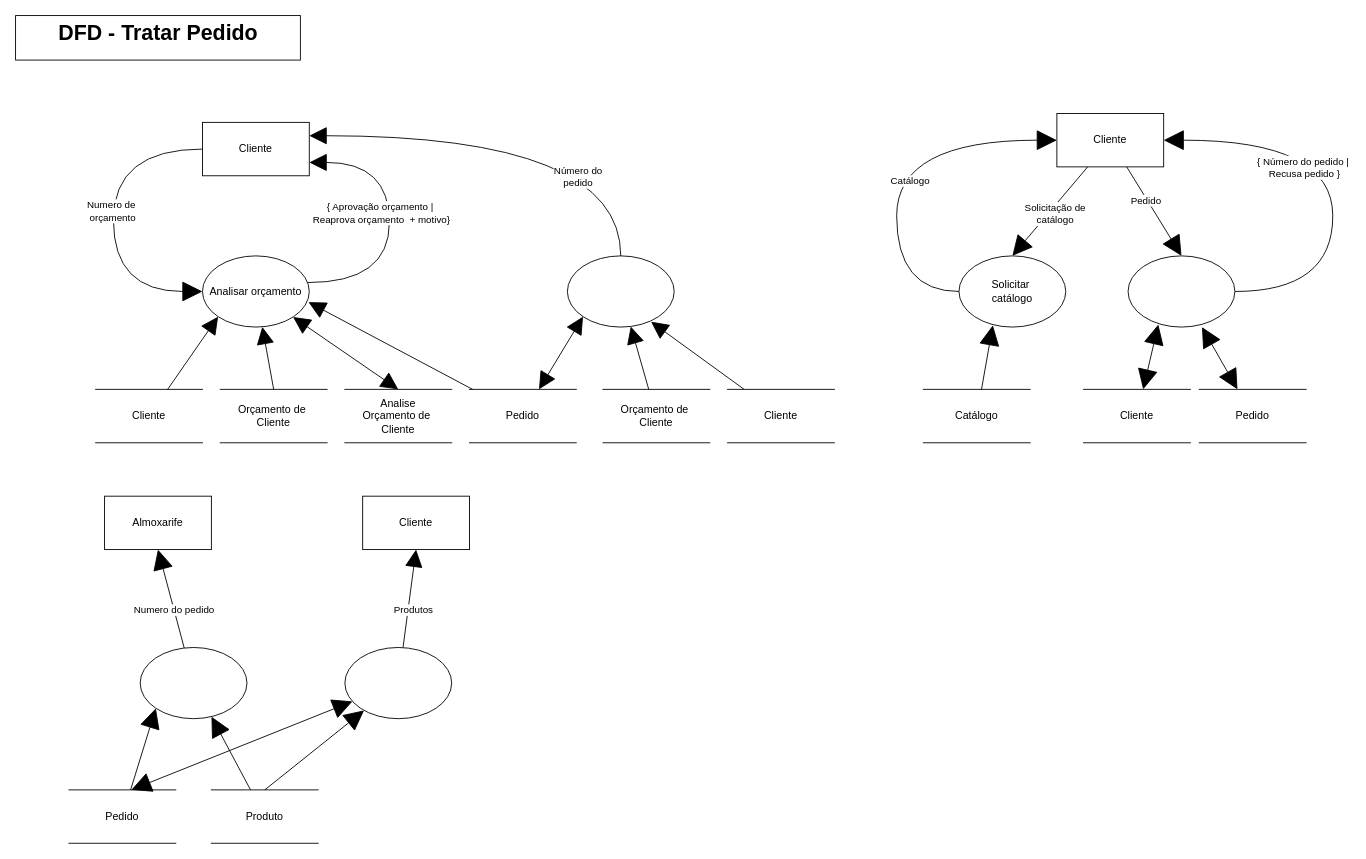
The diagram is 1366 pixels wide and 859 high, and some of its shapes have lost their labels. Here are the shapes that lost their labels. From the top down, the centre of each, then its label:
At point (620, 291): "Gerar pedido com orçamento".
At point (1181, 291): "Gerar pedido".
At point (193, 683): "Solicitar despacho de pedido".
At point (398, 683): "Entrega pedido".
